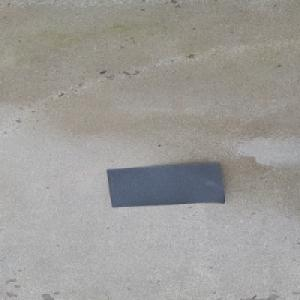PaintChip: (106, 162, 226, 208)
